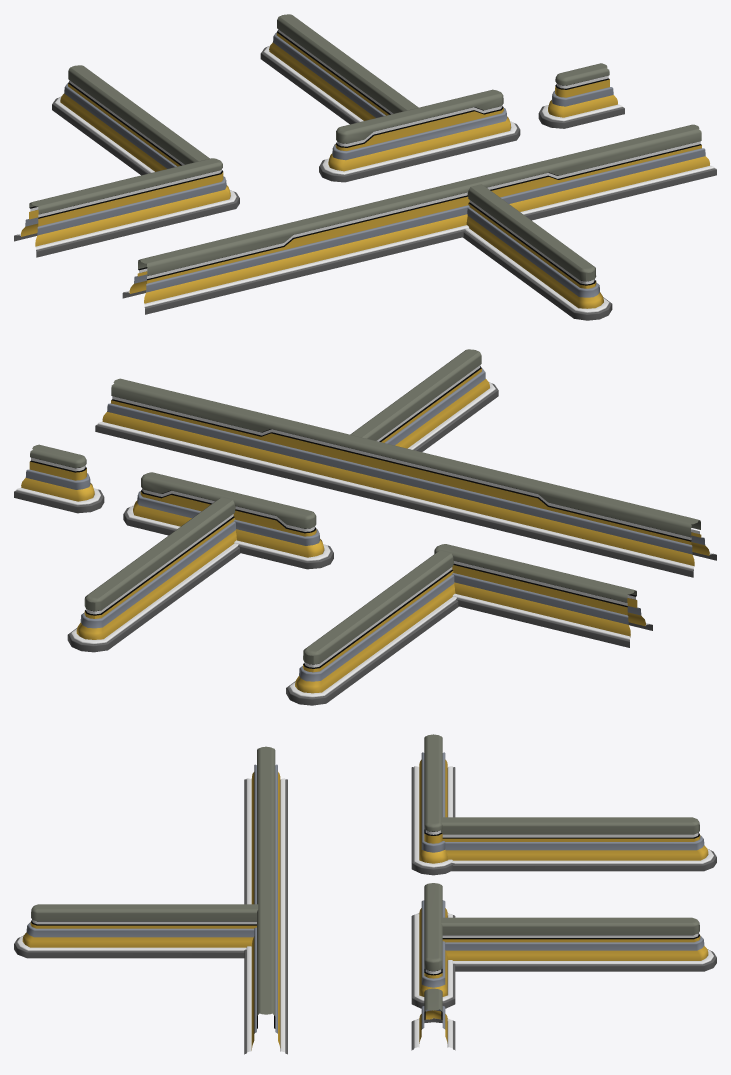
File: Small walls.fbx
3 views of the same model, one above another, from view 1: azimuth 30°, elevation 25°; view 2: azimuth 150°, elevation 25°; view 3: azimuth 270°, elevation 25° (orthographic). The views are drawn at different scales.
Parts seen in each view (by area): view 1: Small_wallv1_4, Small_wallv2_14, Small_wallv1_17, Small_wall_L6, Small_wall_L89, Small_wall_L90, Small_wallv2_15; view 2: Small_wallv1_4, Small_wallv2_14, Small_wall_L90, Small_wall_L89, Small_wallv1_17, Small_wall_L6, Small_wallv2_15; view 3: Small_wall_L90, Small_wall_L89, Small_wall_L6, Small_wallv1_4, Small_wallv2_14, Small_wallv1_17, Small_wallv2_15.
Boxes of the visible parts, x1=… form: Small_wallv1_4: x1=122, y1=124, x2=716, y2=314; Small_wallv2_14: x1=14, y1=158, x2=239, y2=257; Small_wallv1_17: x1=319, y1=89, x2=520, y2=182; Small_wall_L6: x1=463, y1=184, x2=612, y2=320; Small_wall_L89: x1=260, y1=14, x2=418, y2=124; Small_wall_L90: x1=52, y1=65, x2=209, y2=175; Small_wallv2_15: x1=538, y1=63, x2=624, y2=128; Small_wallv1_4: x1=95, y1=378, x2=716, y2=577; Small_wallv2_14: x1=434, y1=544, x2=652, y2=647; Small_wall_L90: x1=286, y1=550, x2=458, y2=705; Small_wall_L89: x1=67, y1=497, x2=240, y2=652; Small_wallv1_17: x1=123, y1=472, x2=333, y2=569; Small_wall_L6: x1=350, y1=349, x2=498, y2=451; Small_wallv2_15: x1=14, y1=444, x2=104, y2=513; Small_wall_L90: x1=441, y1=817, x2=716, y2=871; Small_wall_L89: x1=441, y1=917, x2=716, y2=971; Small_wall_L6: x1=14, y1=904, x2=258, y2=958; Small_wallv1_4: x1=244, y1=746, x2=287, y2=1054; Small_wallv2_14: x1=411, y1=734, x2=455, y2=875; Small_wallv1_17: x1=411, y1=883, x2=455, y2=1008; Small_wallv2_15: x1=411, y1=988, x2=455, y2=1050.
Bounding box in the file's own units: 533 × 38.67 × 552.
